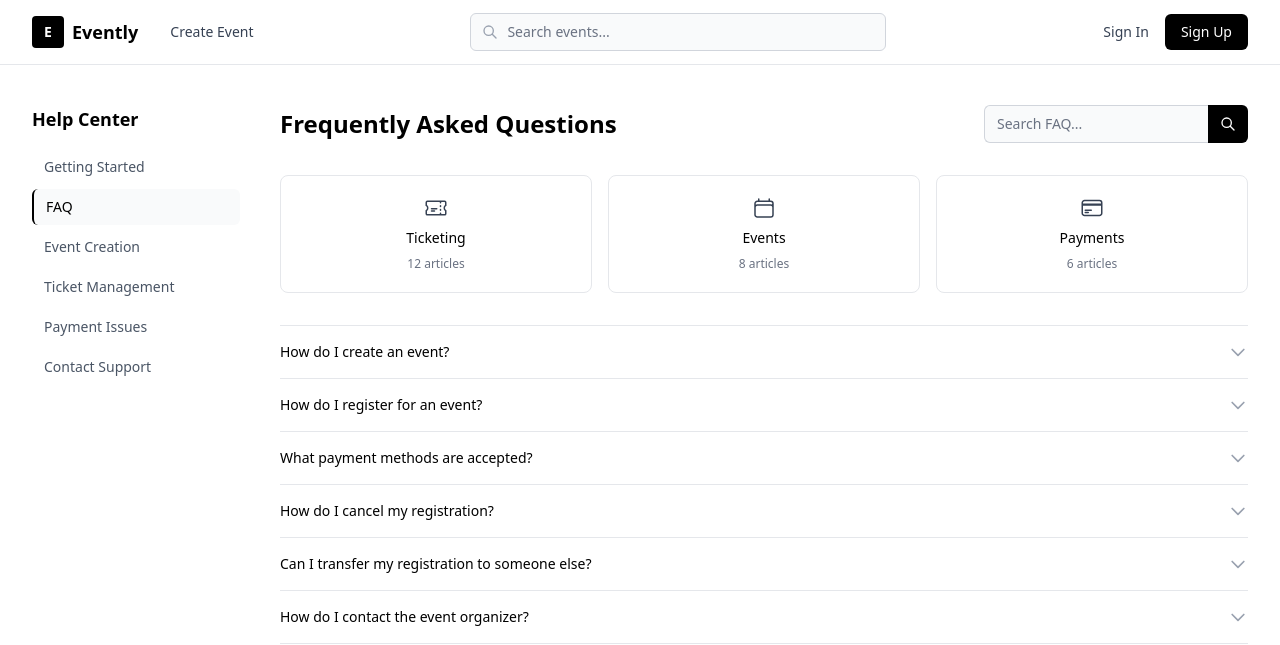
Scenario: HelpPage › filters FAQs by category when a tab is clicked
Click the text "Payments" at point(1092, 238), box left=1060, top=228, right=1124, bottom=248
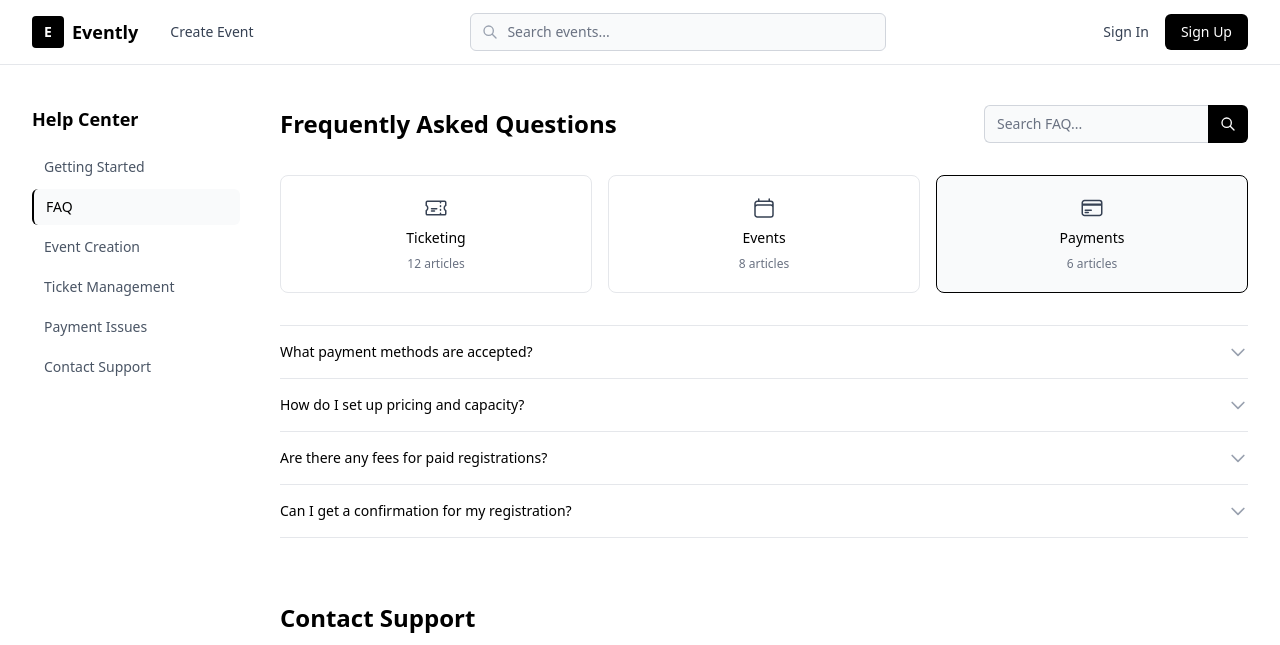
Expected: the text "What payment methods are accepted?" is shown, left=280, top=342, right=533, bottom=362
Expected: the button "How do I create an event?" is gone
